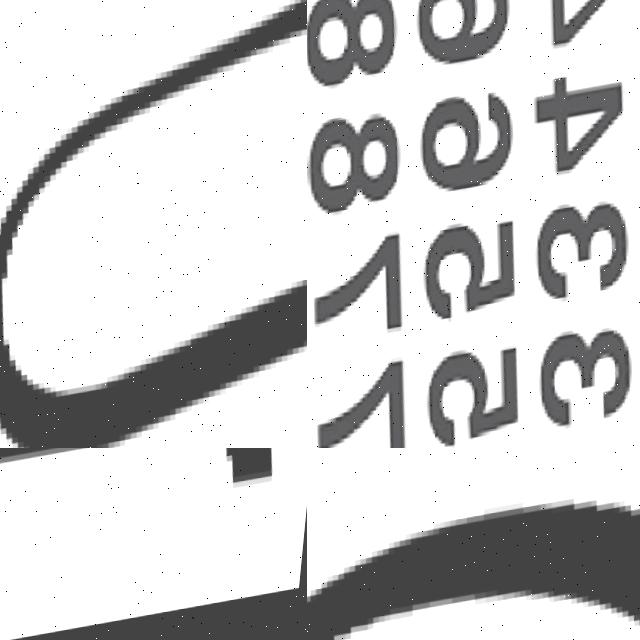0: (307, 458, 640, 640)
3: (537, 326, 640, 443), (532, 197, 640, 308)
4: (527, 64, 640, 186), (520, 0, 632, 65)
5: (417, 215, 537, 335), (423, 339, 541, 448)
6: (412, 82, 531, 206), (405, 0, 526, 79)
7: (307, 229, 424, 356), (313, 356, 433, 448)
8: (307, 105, 416, 221), (307, 0, 412, 94)
U: (0, 0, 307, 448)
